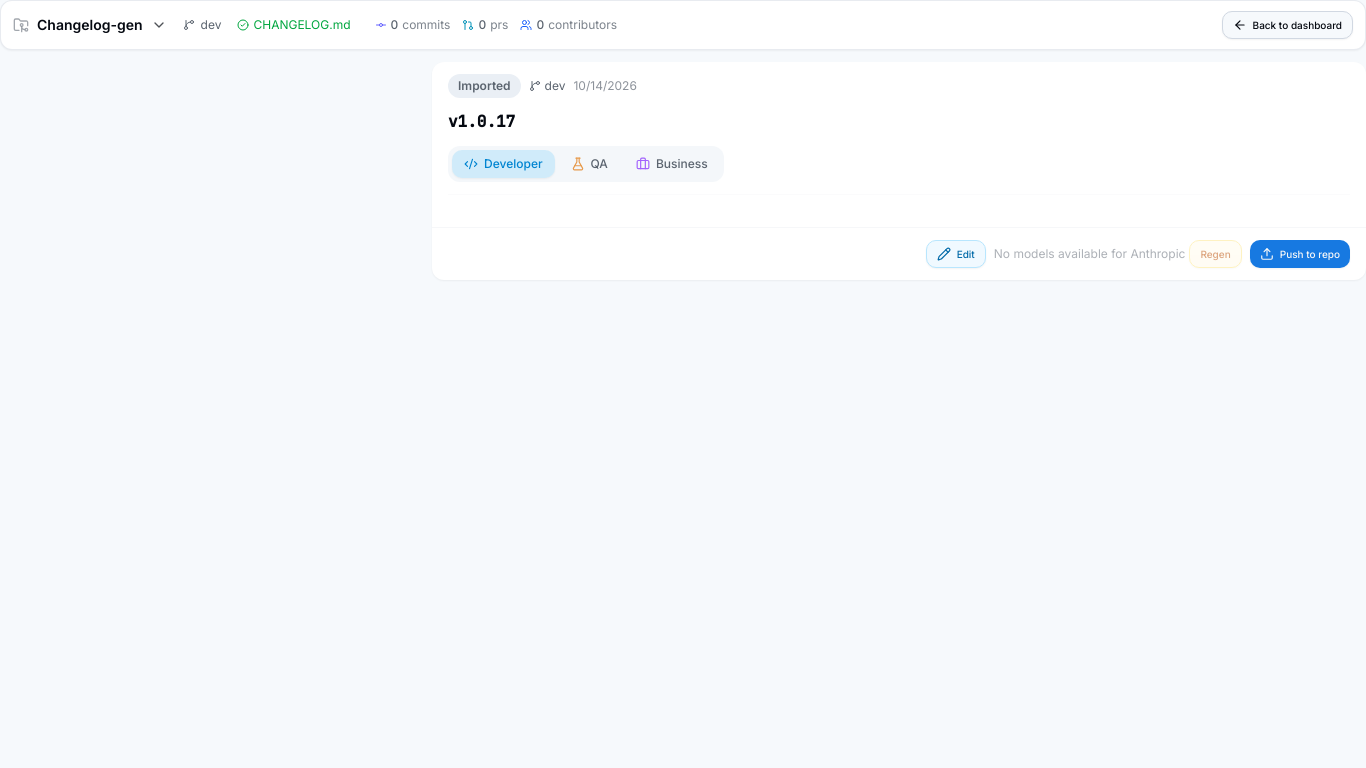
GenerateChangelogPage — version history detail › disables Push when the imported text already matches the repo
The width and height of the screenshot is (1366, 768).
Click the button "Push to repo".
click(1300, 254)  # box [1250,240,1350,268]
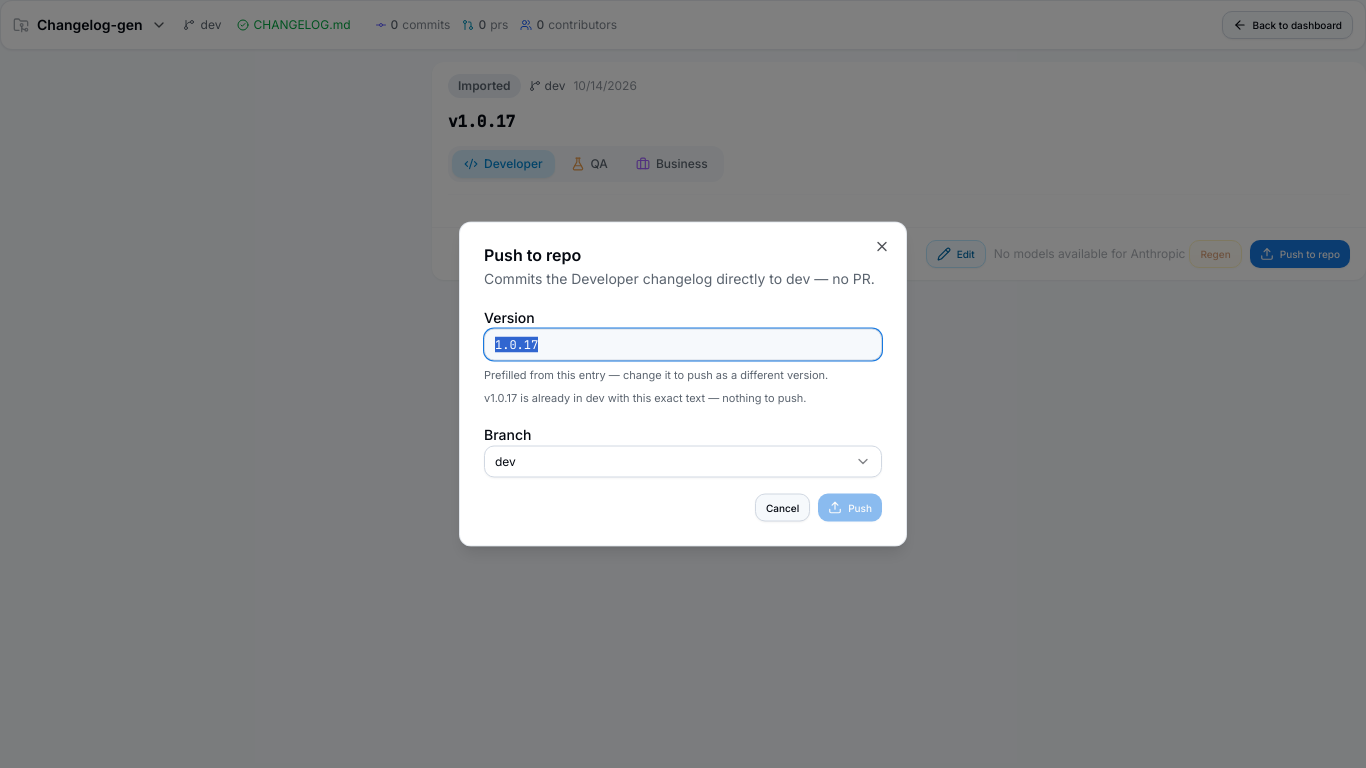
Expected: the text "already in dev with this exact text" is shown, [484,390,806,404]
Expected: the button "Push" is disabled, [818,494,882,522]
